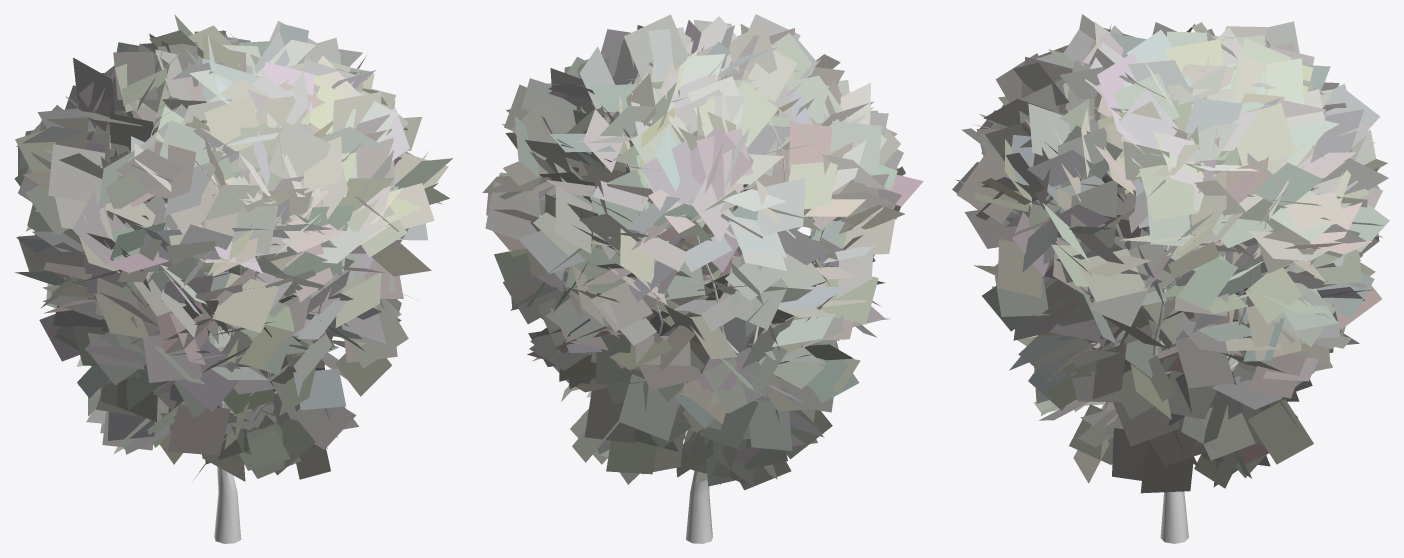
The model's file is keyaki_lod1_notex.glb.
3 views of the same model, side by side, from view 1: azimuth 30°, elevation 25°; view 2: azimuth 150°, elevation 25°; view 3: azimuth 270°, elevation 25° (orthographic).
Visible parts, largest first — view 1: keyaki_lod1_leaves, keyaki_lod1_bark; view 2: keyaki_lod1_leaves, keyaki_lod1_bark; view 3: keyaki_lod1_leaves, keyaki_lod1_bark.
Part boxes in pixels (left/top/right/bottom): keyaki_lod1_leaves: left=14, top=14, right=452, bottom=481; keyaki_lod1_bark: left=109, top=107, right=324, bottom=543; keyaki_lod1_leaves: left=482, top=14, right=923, bottom=490; keyaki_lod1_bark: left=625, top=75, right=785, bottom=543; keyaki_lod1_leaves: left=952, top=14, right=1389, bottom=493; keyaki_lod1_bark: left=1152, top=157, right=1267, bottom=543.
Bounding box in the file's own units: 15.32 × 19.42 × 15.14.
